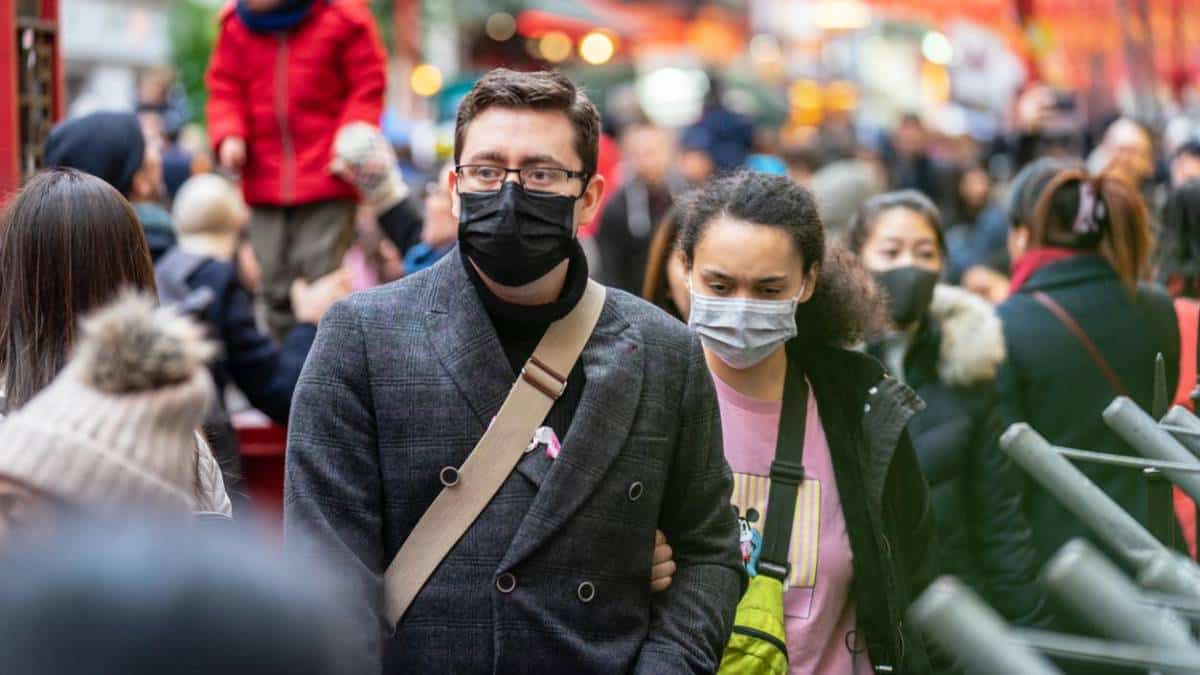with_mask: (460, 146, 576, 278), (696, 249, 797, 369), (870, 226, 944, 310)
